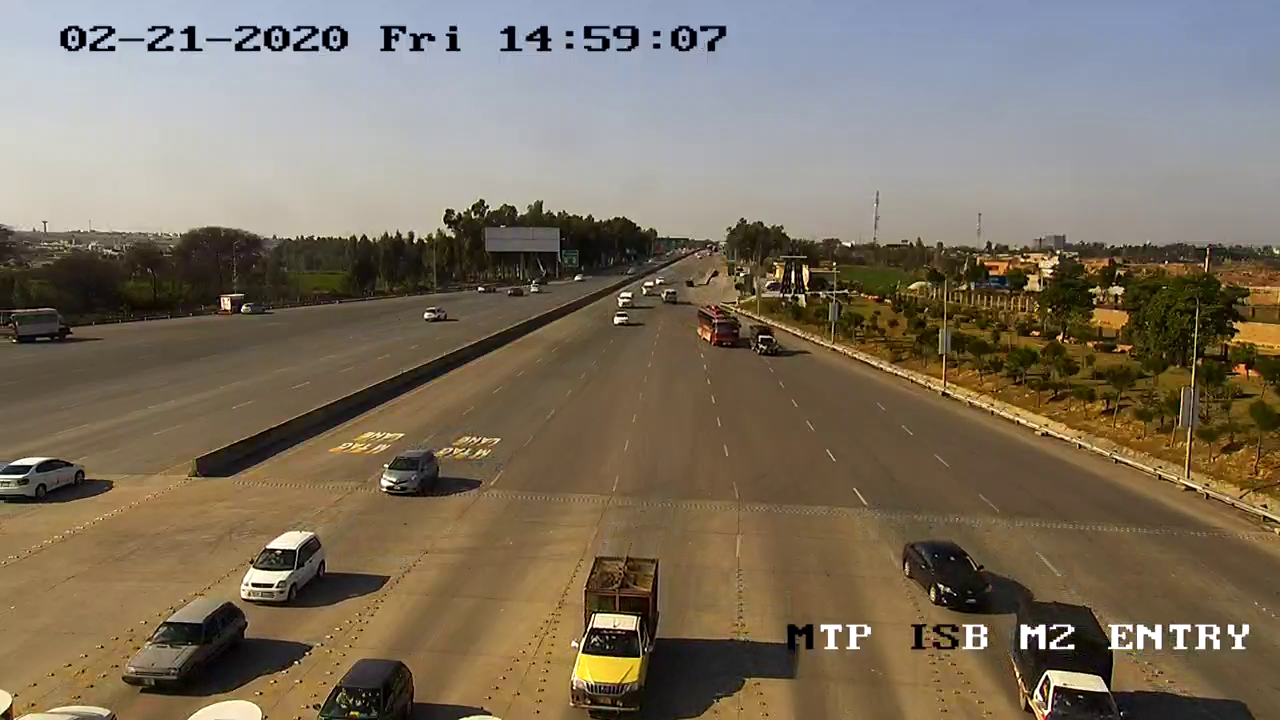f1: (122, 584, 251, 697), (895, 528, 1004, 615), (234, 518, 335, 610), (371, 442, 443, 501)
f2: (551, 544, 669, 720)
